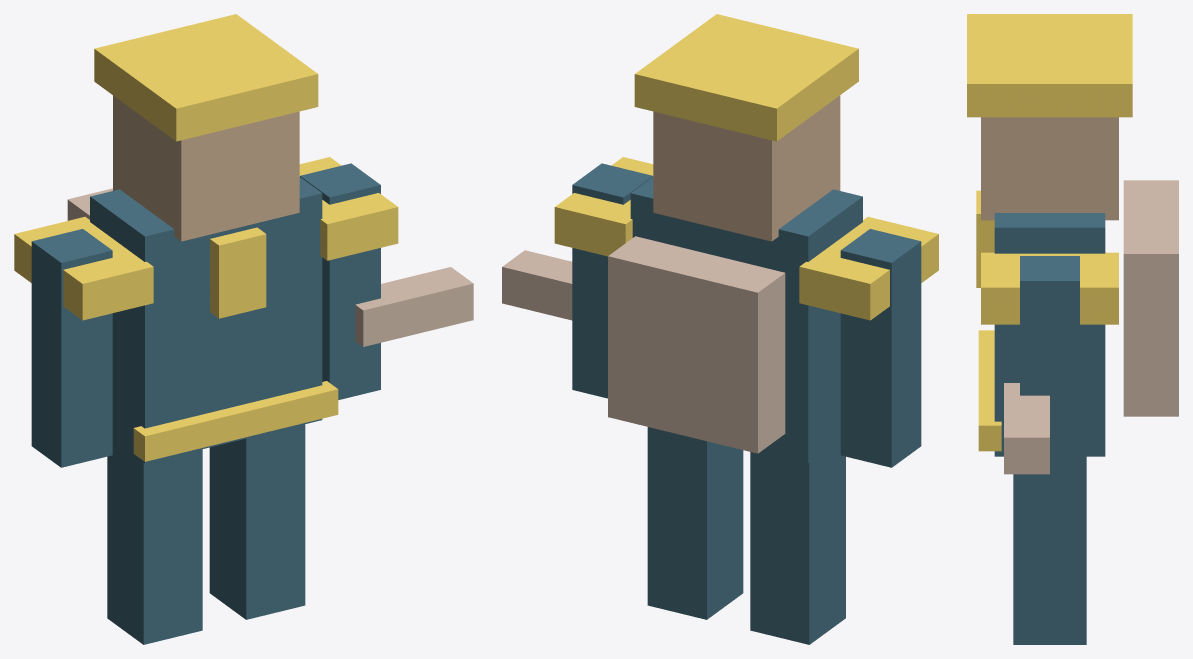
File: 12_cassian_echohand_watcher_at_chainlift.glb
3 renders of one model, left to right at view 1: azimuth 30°, elevation 25°; view 2: azimuth 150°, elevation 25°; view 3: azimuth 270°, elevation 25°, orthographic.
Parts seen in each view (by area): view 1: Cassian Echohand, Watcher at Chainlift; view 2: Cassian Echohand, Watcher at Chainlift; view 3: Cassian Echohand, Watcher at Chainlift.
Part boxes in pixels (bbox=[...]): Cassian Echohand, Watcher at Chainlift: bbox=[14, 14, 473, 644]; Cassian Echohand, Watcher at Chainlift: bbox=[502, 14, 938, 644]; Cassian Echohand, Watcher at Chainlift: bbox=[967, 14, 1178, 644].
Size of the model in its own units: 1.09 by 1.41 by 0.4876.
